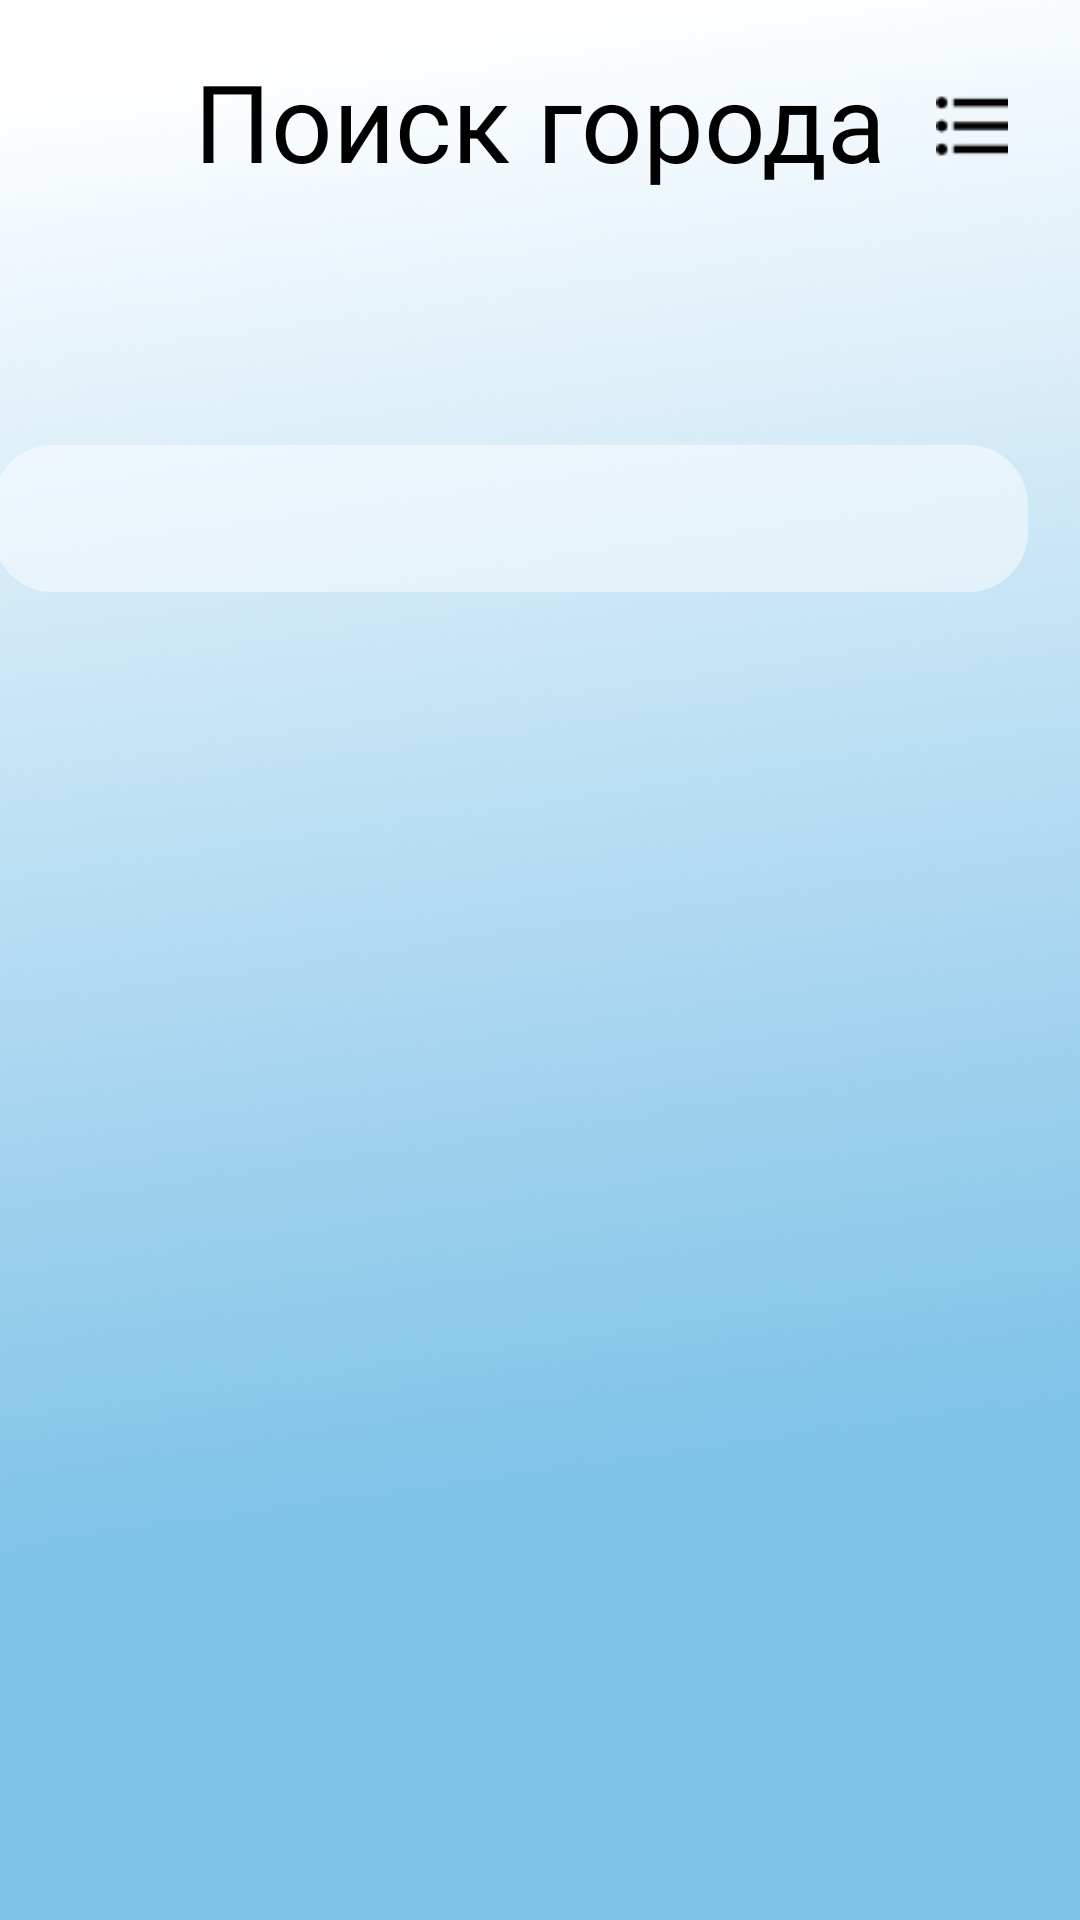

Named icons in this screenshot (1080 × 1920) and their centers, point (x, y):
list of cities: point (972, 126)
